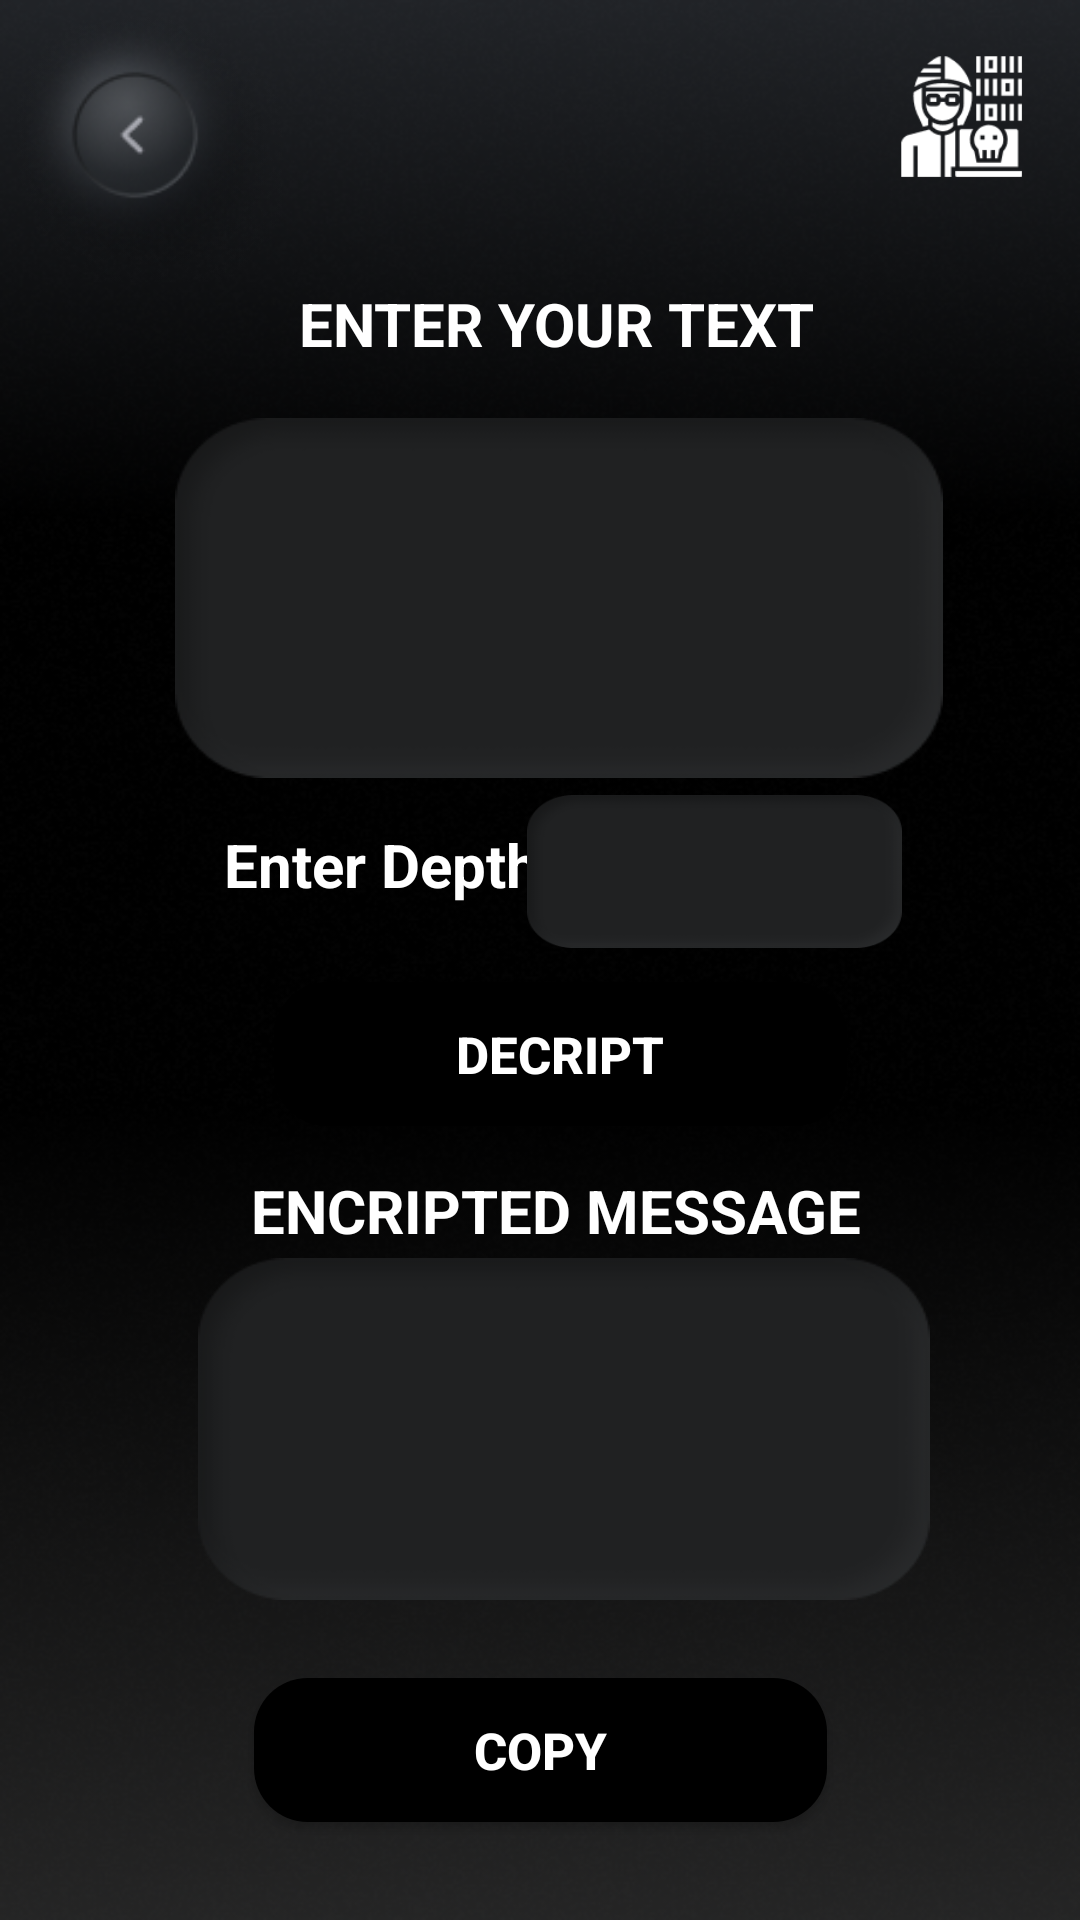

Icons on this 1080 × 1920 Android screen, each with the point to tap as [x,y]:
reversebtn: [136,131]
